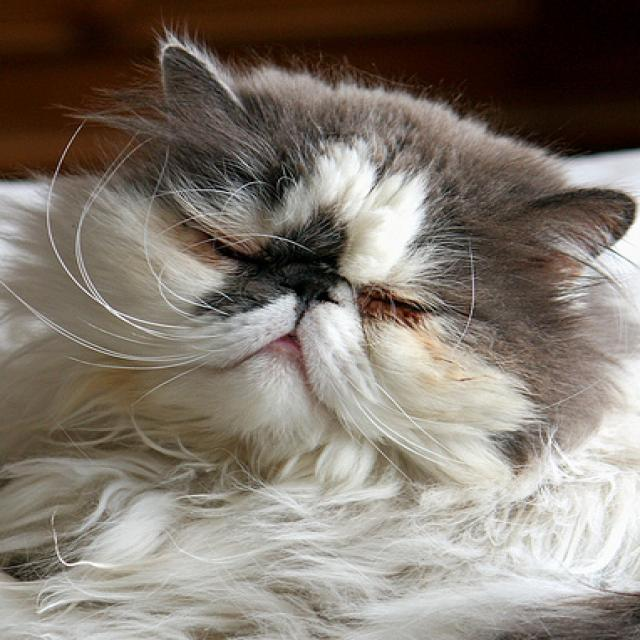Persian: (0, 27, 640, 640)
